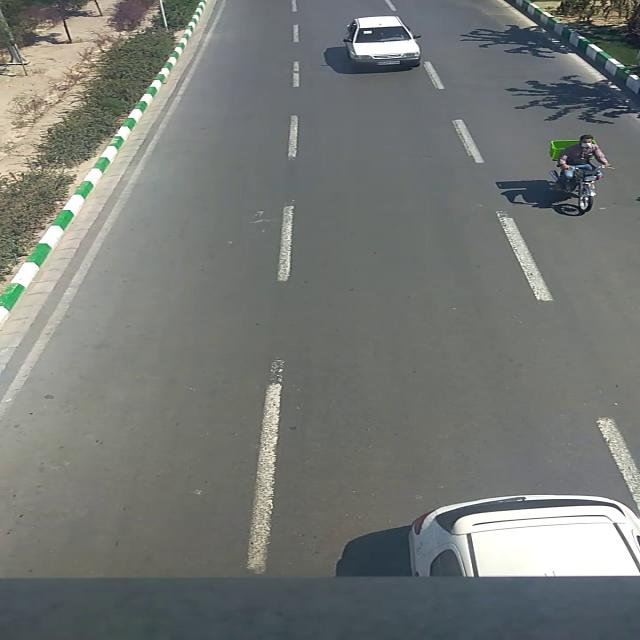car: (408, 495, 640, 575), (342, 16, 420, 68)
motor: (548, 134, 610, 212)
